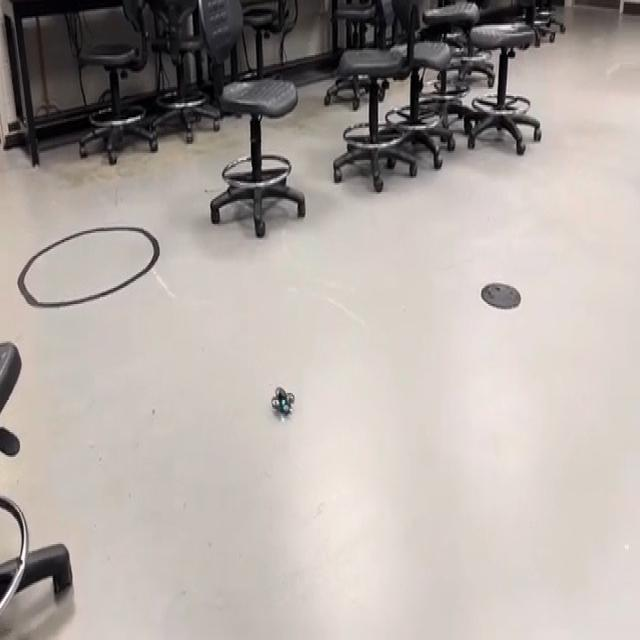drone: (265, 374, 301, 431)
